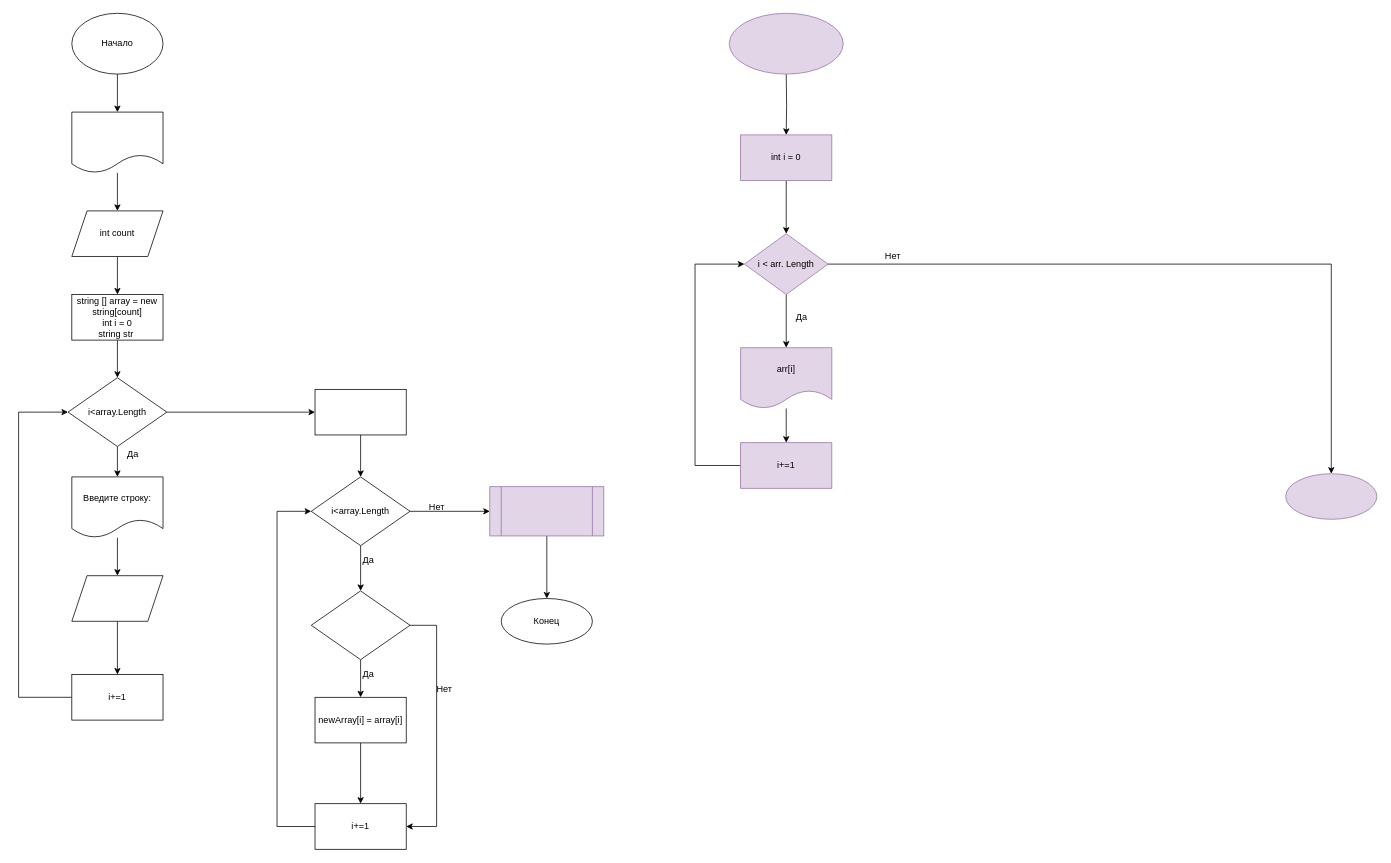
Some shapes in this 1391 by 863 pixel diagram are drawn without their labels. Each missing label, with the centre of its shape:
"array[i] = str" belongs at pixel 117 598.
"array[i].Length<=3" belongs at pixel 360 625.
"PrintArray(newArray)" belongs at pixel 546 511.
"PrintArray(string [] arr)" belongs at pixel 785 43.
"result" belongs at pixel 1331 496.
"string [] newArray = new string[count] int i = 0" belongs at pixel 360 412.
"Сколько строк хотите ввести?" belongs at pixel 117 142.
